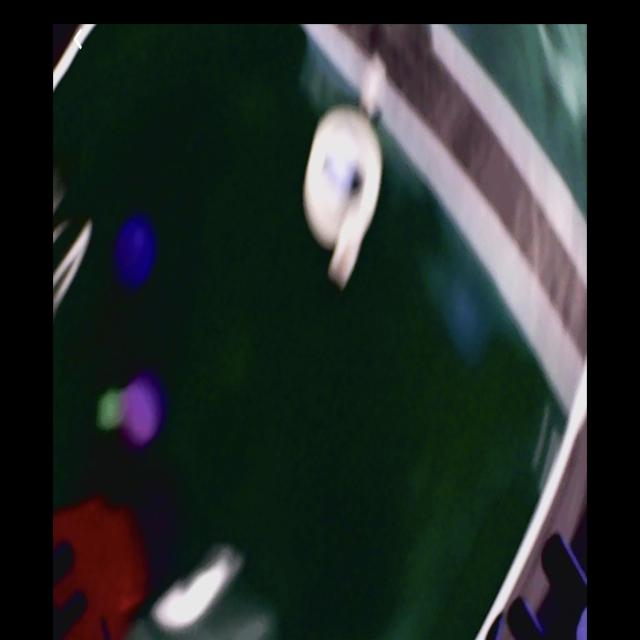ball: (118, 219, 156, 288), (125, 380, 161, 445)
